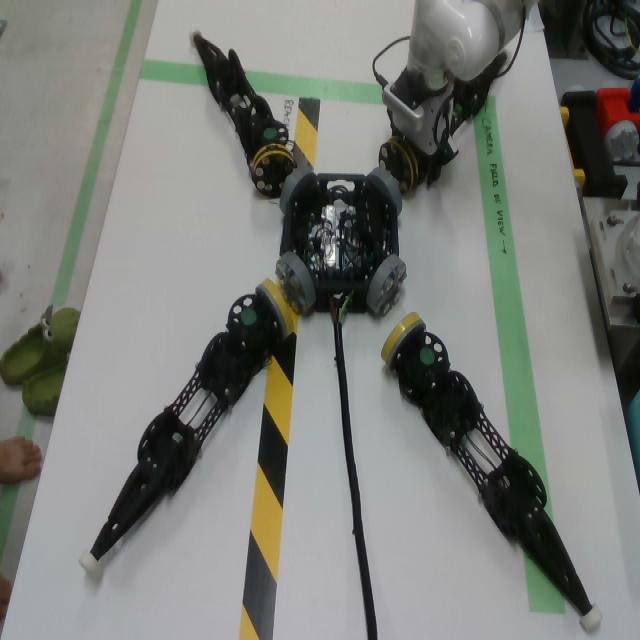body: (280, 173, 399, 315)
body_connector: (275, 252, 316, 316), (366, 255, 407, 317), (368, 167, 402, 216), (279, 168, 314, 215)
gripper: (386, 83, 460, 191)
leg: (380, 312, 603, 633), (79, 277, 294, 575), (187, 27, 297, 199), (450, 47, 513, 136), (378, 137, 429, 195)
leg_connector: (381, 312, 425, 371), (252, 143, 297, 199), (255, 279, 294, 341), (379, 136, 419, 193)
leg_marker: (241, 308, 257, 325), (420, 348, 434, 365), (264, 128, 277, 139)
